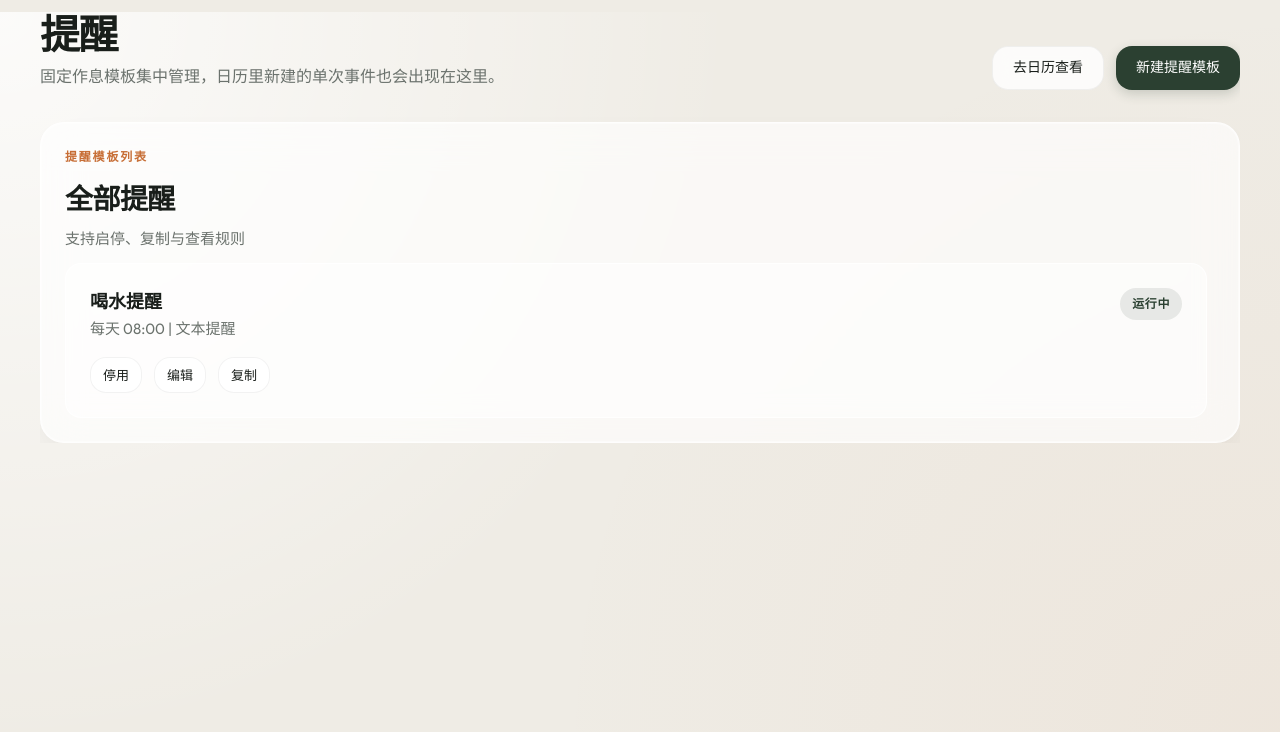
Test: RemindersPage › duplicates template through backend service
Click the button with aria-label "复制 喝水提醒": (244, 375) [218,357,270,393]
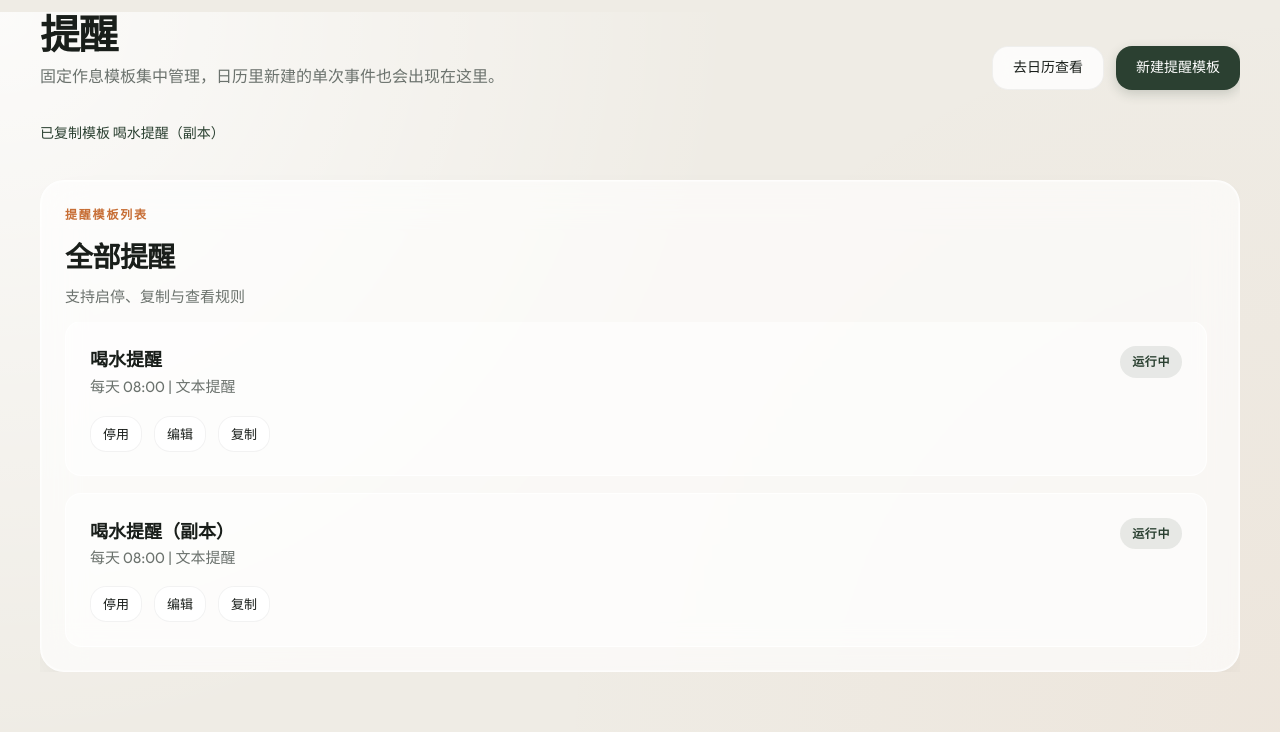
Result: the text "喝水提醒（副本）" is shown at [90,518,235,546]
